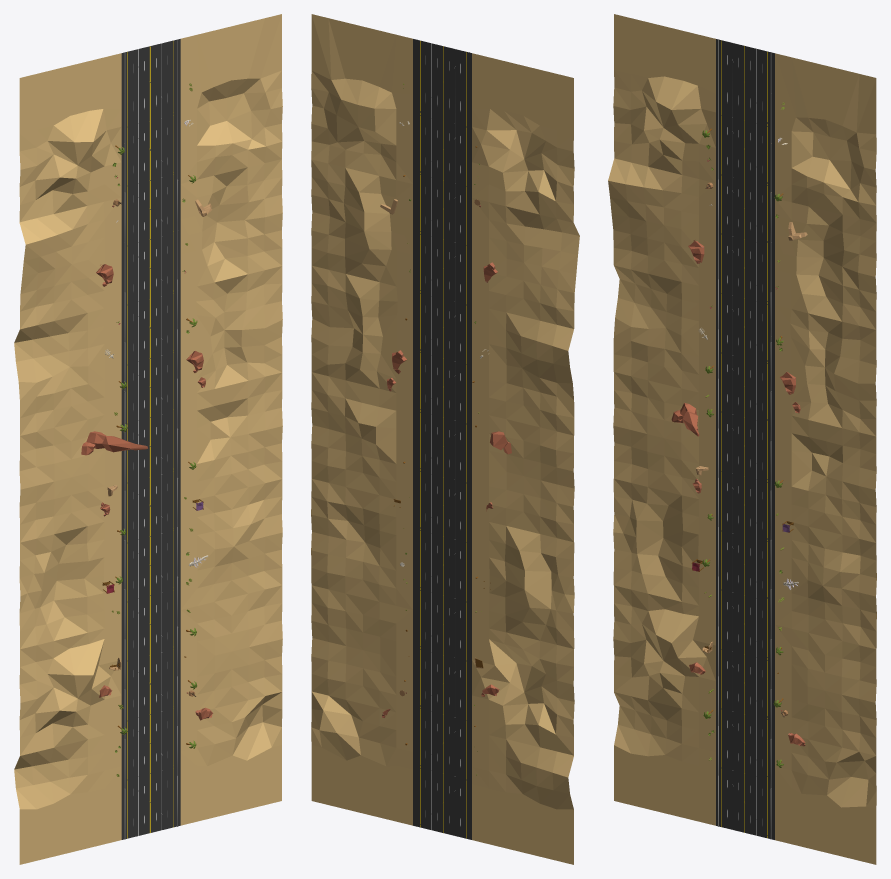
The model's file is Desert road.fbx.
The picture shows the model from 3 angles, left to right: view 1: azimuth 30°, elevation 25°; view 2: azimuth 150°, elevation 25°; view 3: azimuth 330°, elevation 25°; orthographic projection.
Parts seen in each view (by area): view 1: Road, Ground_06_2, Ground_15_2, Ground_08_2, Ground_13_2, Ground_10_2, Ground_03_2, Ground_01_2, Ground_05_2, Ground_11_2, Ground_02_2, Ground_09_2 (+5 smaller); view 2: Road, Ground_06_2, Ground_15_2, Ground_10_2, Ground_08_2, Ground_14_2, Ground_11_2, Ground_03_2, Ground_02_2, Ground_01_2, Ground_13_2, Ground_09_2 (+3 smaller); view 3: Road, Ground_06_2, Ground_15_2, Ground_10_2, Ground_14_2, Ground_08_2, Ground_03_2, Ground_11_2, Ground_05_2, Ground_01_2, Ground_02_2, Ground_09_2 (+5 smaller).
Boxes of the visible parts, <box> form: Road: <box>121,39,180,839</box>; Ground_06_2: <box>180,14,282,183</box>; Ground_15_2: <box>19,53,121,222</box>; Ground_08_2: <box>14,731,121,864</box>; Ground_13_2: <box>14,304,121,435</box>; Ground_10_2: <box>180,692,282,825</box>; Ground_03_2: <box>180,372,282,503</box>; Ground_01_2: <box>180,585,282,716</box>; Ground_05_2: <box>180,159,282,290</box>; Ground_11_2: <box>19,517,121,649</box>; Ground_02_2: <box>180,479,282,609</box>; Ground_09_2: <box>19,624,121,755</box>; Road: <box>413,39,471,839</box>; Ground_06_2: <box>311,14,412,183</box>; Ground_15_2: <box>472,53,574,222</box>; Ground_10_2: <box>311,691,412,825</box>; Ground_08_2: <box>472,731,573,864</box>; Ground_14_2: <box>472,198,579,328</box>; Ground_11_2: <box>472,517,574,648</box>; Ground_03_2: <box>311,372,412,503</box>; Ground_02_2: <box>311,479,412,609</box>; Ground_01_2: <box>311,585,412,716</box>; Ground_13_2: <box>472,304,574,435</box>; Ground_09_2: <box>472,624,574,755</box>; Road: <box>716,39,774,839</box>; Ground_06_2: <box>775,53,876,222</box>; Ground_15_2: <box>613,14,715,183</box>; Ground_10_2: <box>775,731,876,864</box>; Ground_14_2: <box>608,158,715,289</box>; Ground_08_2: <box>614,692,715,825</box>; Ground_03_2: <box>775,411,876,542</box>; Ground_11_2: <box>613,479,715,609</box>; Ground_05_2: <box>775,199,876,329</box>; Ground_01_2: <box>775,624,876,755</box>; Ground_02_2: <box>775,518,876,649</box>; Ground_09_2: <box>613,585,715,716</box>.
Size of the model in its own units: 7123 by 20402 by 1347.
Materials: 3 (3 with a texture image).
